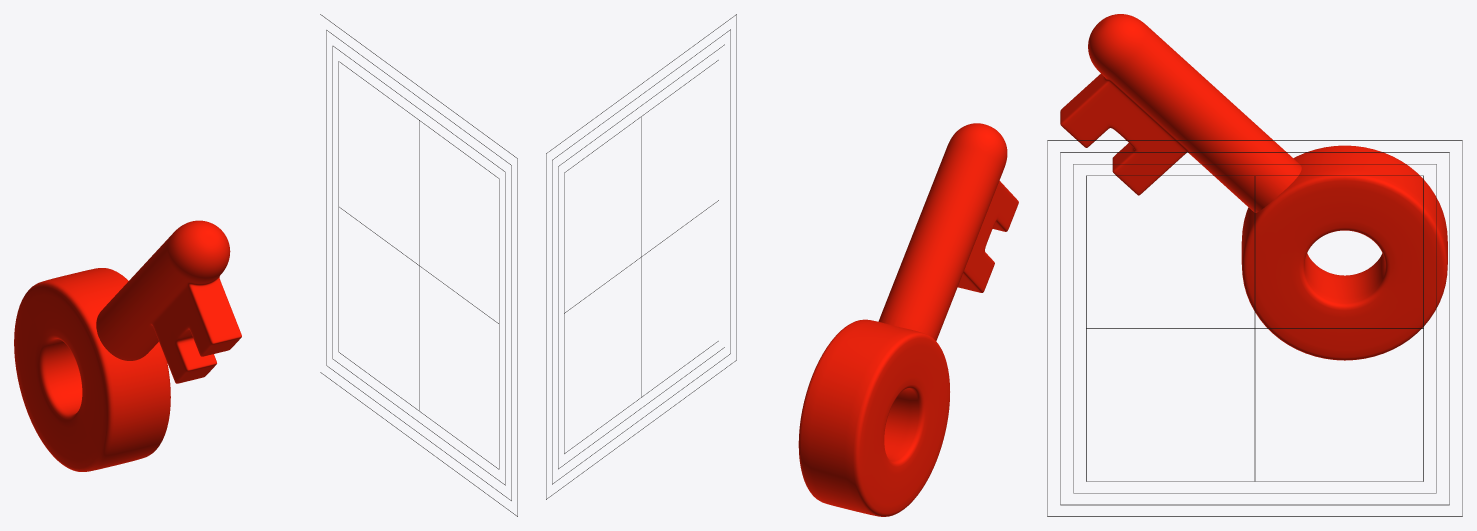
The model's file is key.obj.
The picture shows the model from 3 angles, left to right: view 1: azimuth 30°, elevation 25°; view 2: azimuth 150°, elevation 25°; view 3: azimuth 270°, elevation 25°; orthographic projection. The views are drawn at different scales.
Visible parts, largest first — view 1: Circle_Circle.007, Cylinder, Grid_rect839.001; view 2: Circle_Circle.007, Cylinder, Grid_rect839.001; view 3: Circle_Circle.007, Cylinder, Grid_rect839.001.
Boxes of the visible parts, box(x1,y1,x2,y2) form: Circle_Circle.007: box(14, 268, 170, 471); Cylinder: box(96, 220, 241, 383); Grid_rect839.001: box(320, 14, 517, 516); Circle_Circle.007: box(798, 319, 949, 516); Cylinder: box(878, 123, 1018, 340); Grid_rect839.001: box(546, 14, 736, 499); Circle_Circle.007: box(1241, 145, 1447, 360); Cylinder: box(1060, 14, 1301, 212); Grid_rect839.001: box(1047, 140, 1462, 516).
Bounding box in the file's own units: 6.82 × 7.4 × 7.4.
